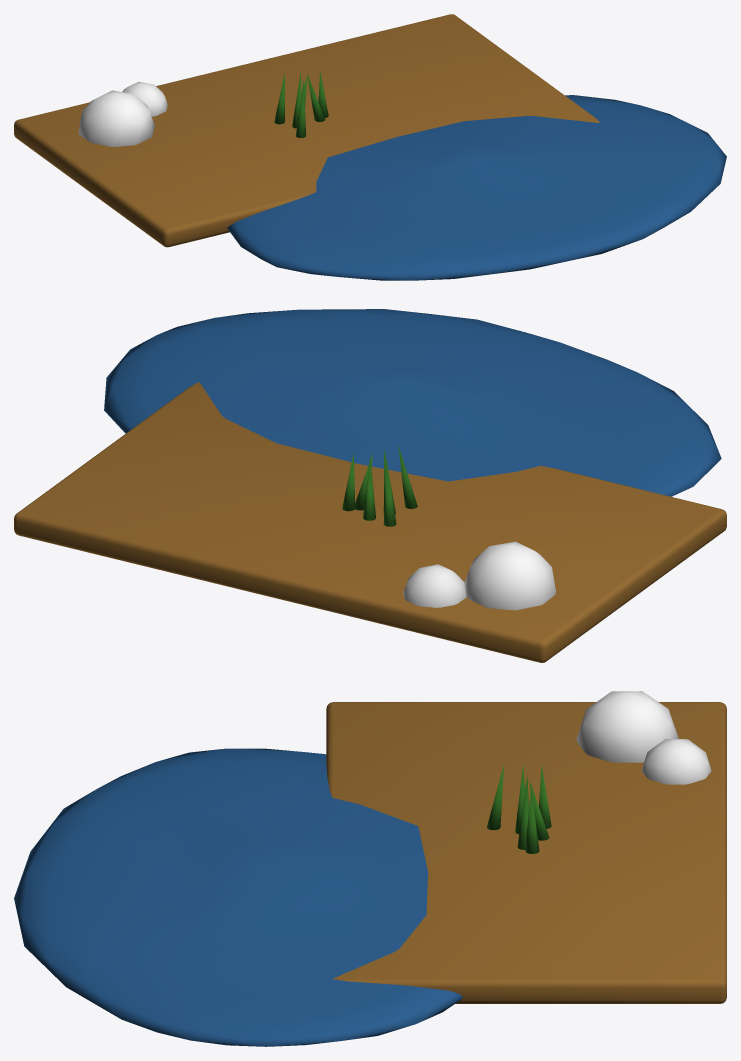
Rendered from pond-bank.obj.
The picture shows the model from 3 angles, top to bottom: view 1: azimuth 30°, elevation 25°; view 2: azimuth 150°, elevation 25°; view 3: azimuth 270°, elevation 25°; orthographic projection. The views are drawn at different scales.
Parts seen in each view (by area): view 1: pond-bank; view 2: pond-bank; view 3: pond-bank.
Part boxes in pixels (x1,y1,x2,y2): pond-bank: (14, 14, 726, 280); pond-bank: (14, 309, 726, 662); pond-bank: (14, 691, 726, 1046).
Size of the model in its own units: 2.35 by 0.4068 by 2.14.
